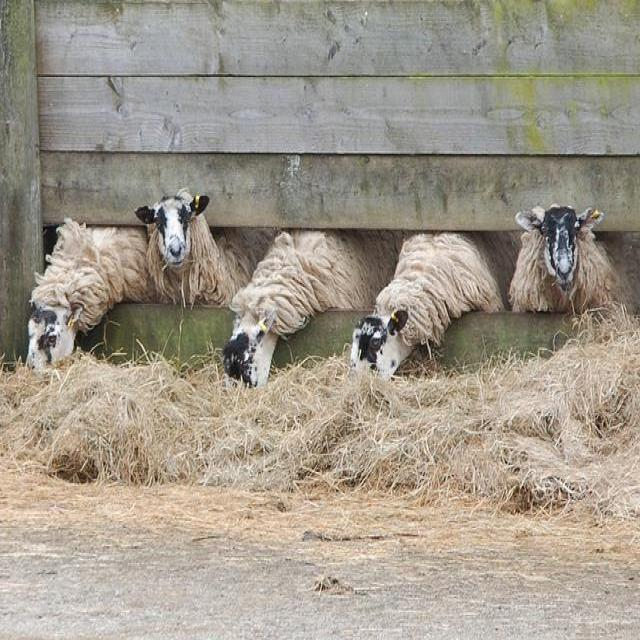Sheep: (222, 230, 407, 388), (350, 235, 509, 381), (25, 215, 157, 372), (142, 192, 287, 307), (506, 203, 621, 317)
